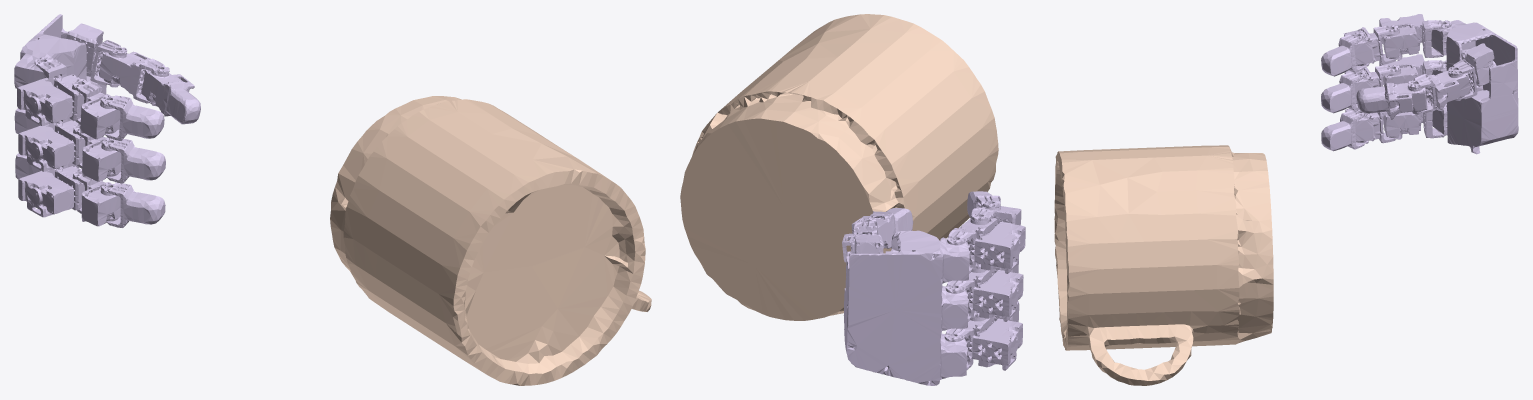
Rendered from 41f51a46175441-closed.glb.
The picture shows the model from 3 angles, left to right: view 1: azimuth 30°, elevation 25°; view 2: azimuth 150°, elevation 25°; view 3: azimuth 270°, elevation 25°; orthographic projection. The views are drawn at different scales.
Parts seen in each view (by area): view 1: world, LEAP_hand; view 2: world, LEAP_hand; view 3: world, LEAP_hand.
Part boxes in pixels (x1=…): world: x1=330, y1=96, x2=651, y2=385; LEAP_hand: x1=14, y1=14, x2=200, y2=227; world: x1=680, y1=14, x2=998, y2=320; LEAP_hand: x1=842, y1=191, x2=1025, y2=385; world: x1=1054, y1=145, x2=1273, y2=385; LEAP_hand: x1=1321, y1=14, x2=1518, y2=154.
Size of the model in its own units: 0.4781 by 0.2284 by 0.4807.
